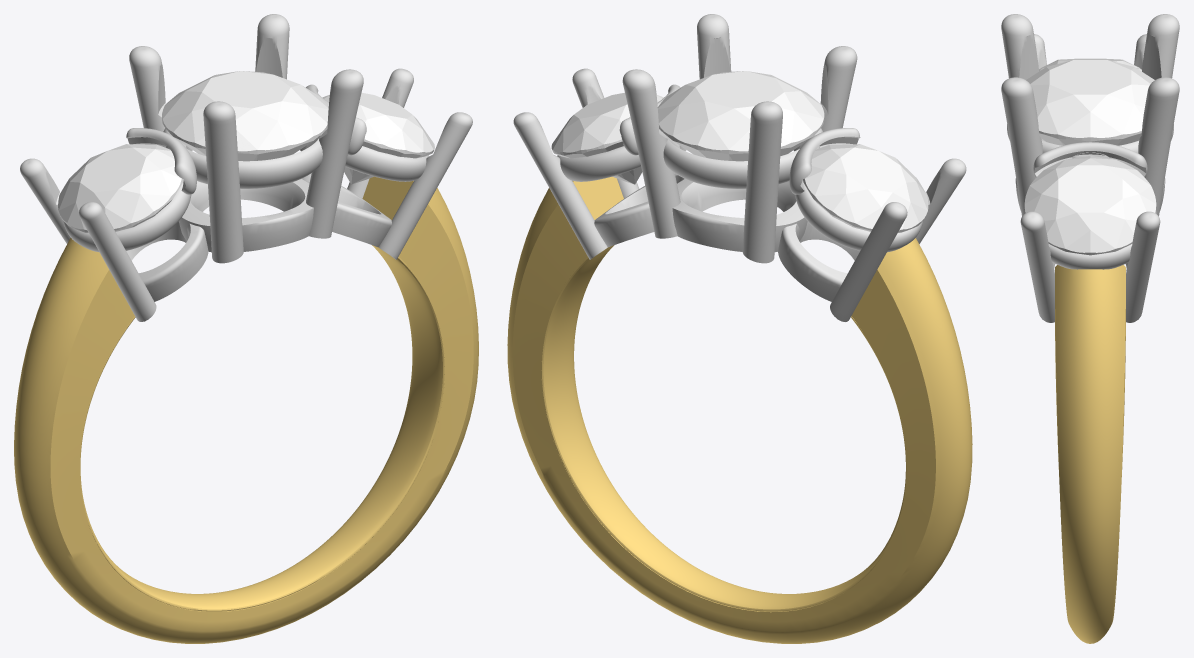
Rendered from amySiener_webgi.glb.
The picture shows the model from 3 angles, left to right: view 1: azimuth 30°, elevation 25°; view 2: azimuth 150°, elevation 25°; view 3: azimuth 270°, elevation 25°; orthographic projection.
Parts seen in each view (by area): view 1: Amy_Siener020, Amy_Siener009, Amy_Siener008, Amy_Siener007, Amy_Siener011, Amy_Siener006; view 2: Amy_Siener020, Amy_Siener009, Amy_Siener008, Amy_Siener007, Amy_Siener011, Amy_Siener006; view 3: Amy_Siener020, Amy_Siener009, Amy_Siener006, Amy_Siener007.
Boxes of the visible parts, <box> form: Amy_Siener020: <box>14,176,478,643</box>; Amy_Siener009: <box>20,14,472,321</box>; Amy_Siener008: <box>79,245,444,611</box>; Amy_Siener007: <box>162,71,328,161</box>; Amy_Siener011: <box>58,144,183,232</box>; Amy_Siener006: <box>322,92,434,184</box>; Amy_Siener020: <box>507,176,972,643</box>; Amy_Siener009: <box>513,14,966,321</box>; Amy_Siener008: <box>541,245,906,611</box>; Amy_Siener007: <box>657,71,824,161</box>; Amy_Siener011: <box>803,144,928,232</box>; Amy_Siener006: <box>551,92,663,184</box>; Amy_Siener020: <box>1055,265,1125,643</box>; Amy_Siener009: <box>1001,14,1179,322</box>; Amy_Siener006: <box>1024,156,1156,255</box>; Amy_Siener007: <box>1026,59,1154,145</box>.
Size of the model in its own units: 2.5 by 3.01 by 0.8525.
